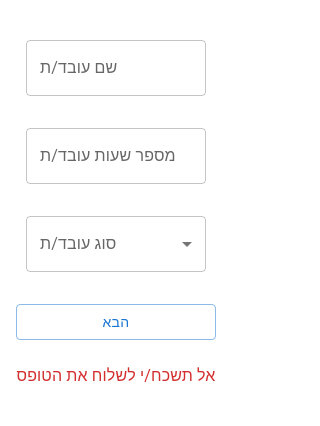
Scenario: shows error when only the hours field is filled
Type "5" into the number field labelled "מספר שעות עובד/ת" at point(116, 156), box [26, 128, 206, 184]
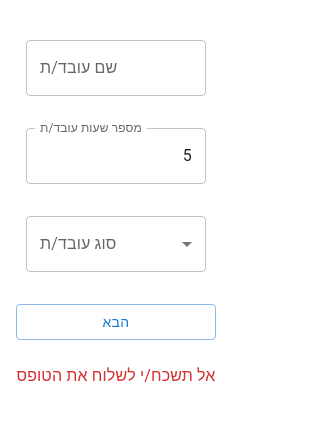
Click the button "הבא" at point(116, 322), box [16, 304, 216, 340]
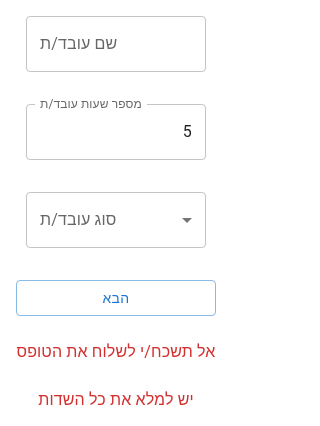
Check: the text "יש למלא את כל השדות" is shown, box [38, 390, 194, 409]
